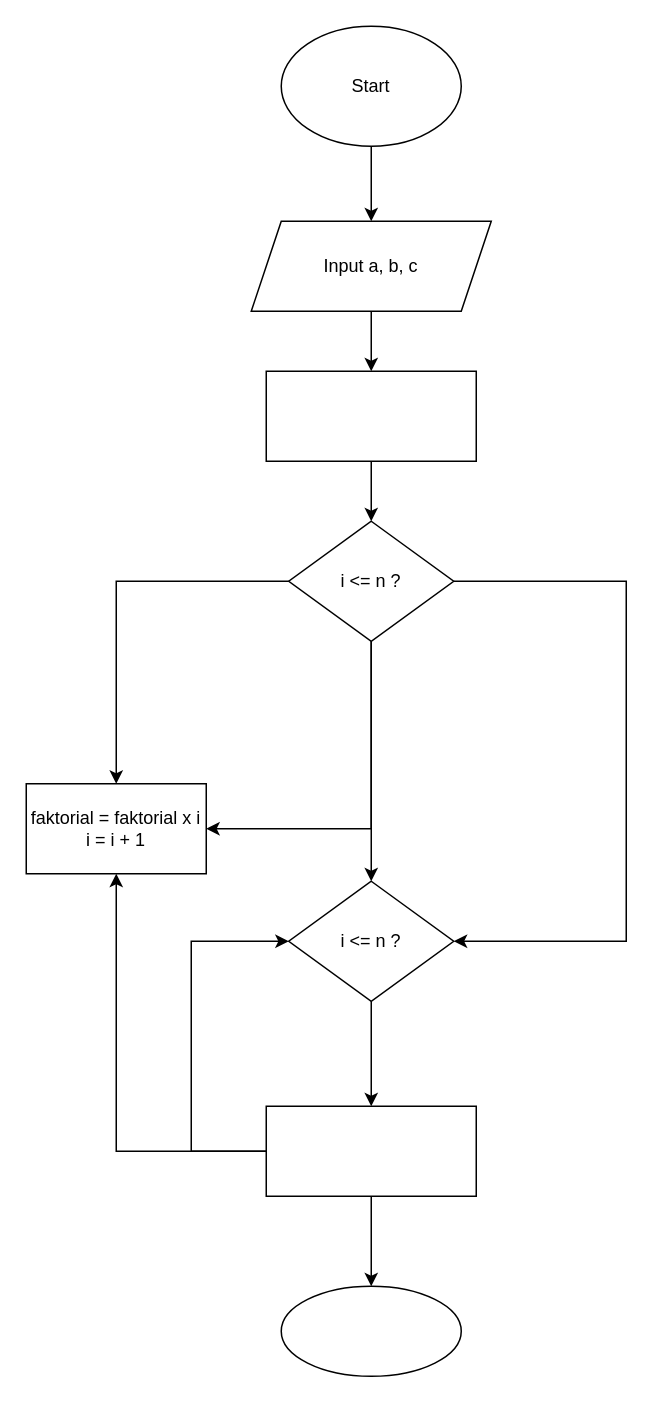
This 665x1403 diagram has some shape labels left out. Here are the shapes that lost their labels. From the top down, the box of each, then its label:
(265, 370, 476, 461): faktorial = 1 i = 1
(265, 1105, 476, 1196): Tampilkan faktorial
